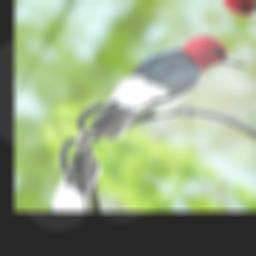Woodpecker: (75, 1, 252, 191)
